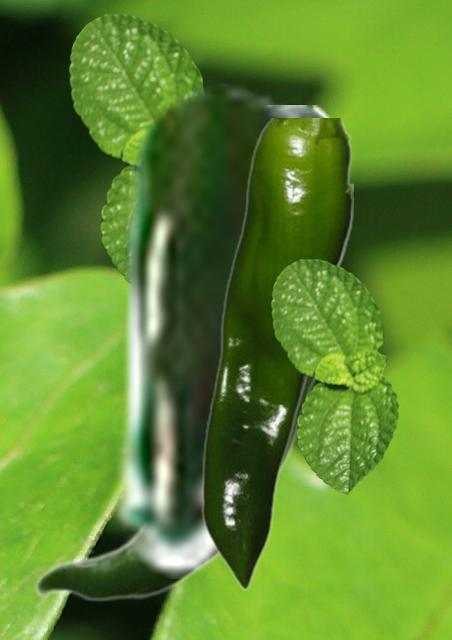green_chili: (33, 105, 342, 602), (103, 80, 330, 577), (200, 118, 352, 589)
